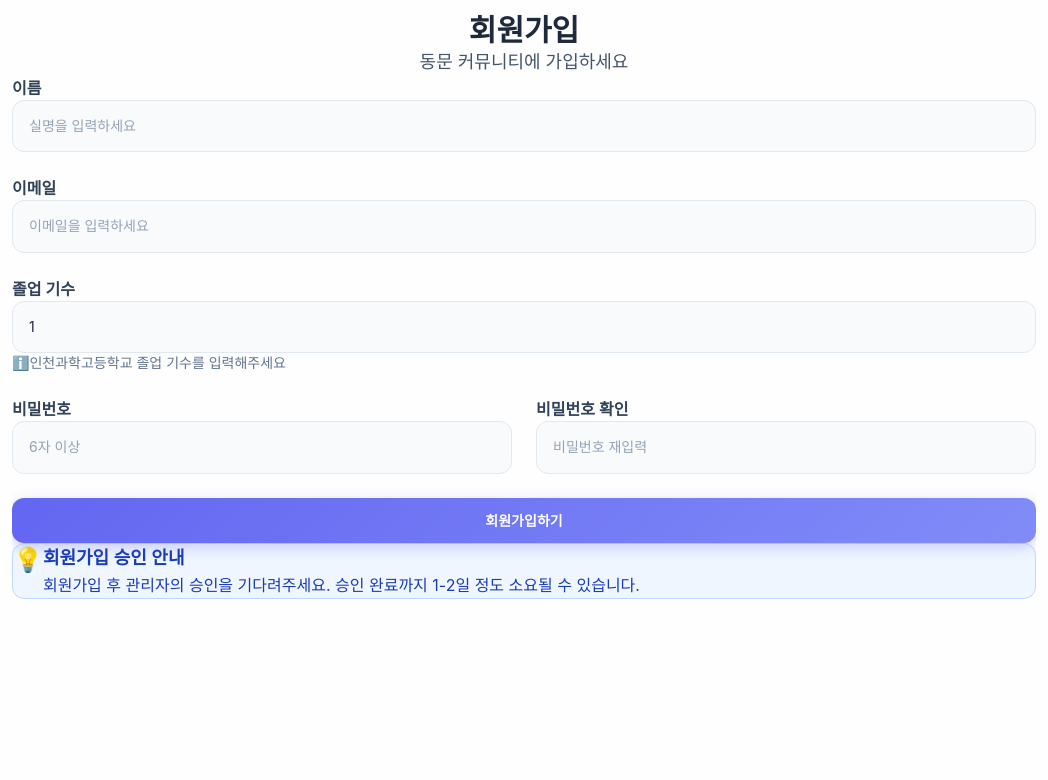
it: RegisterForm › should show success message on successful submission
Type "홍길동" into the field labelled "이름".
click(524, 126); type("홍길동")  # box [12,100,1036,152]
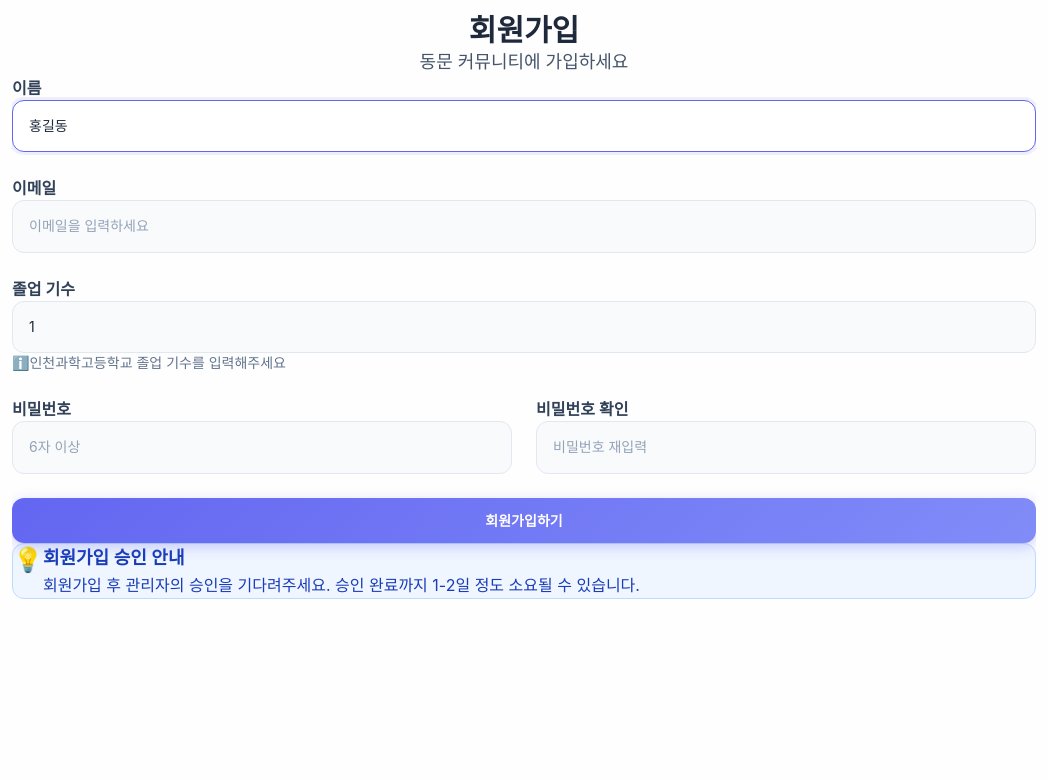
Type "test@example.com" into the field labelled "이메일".
click(524, 227); type("test@example.com")  # box [12,200,1036,253]
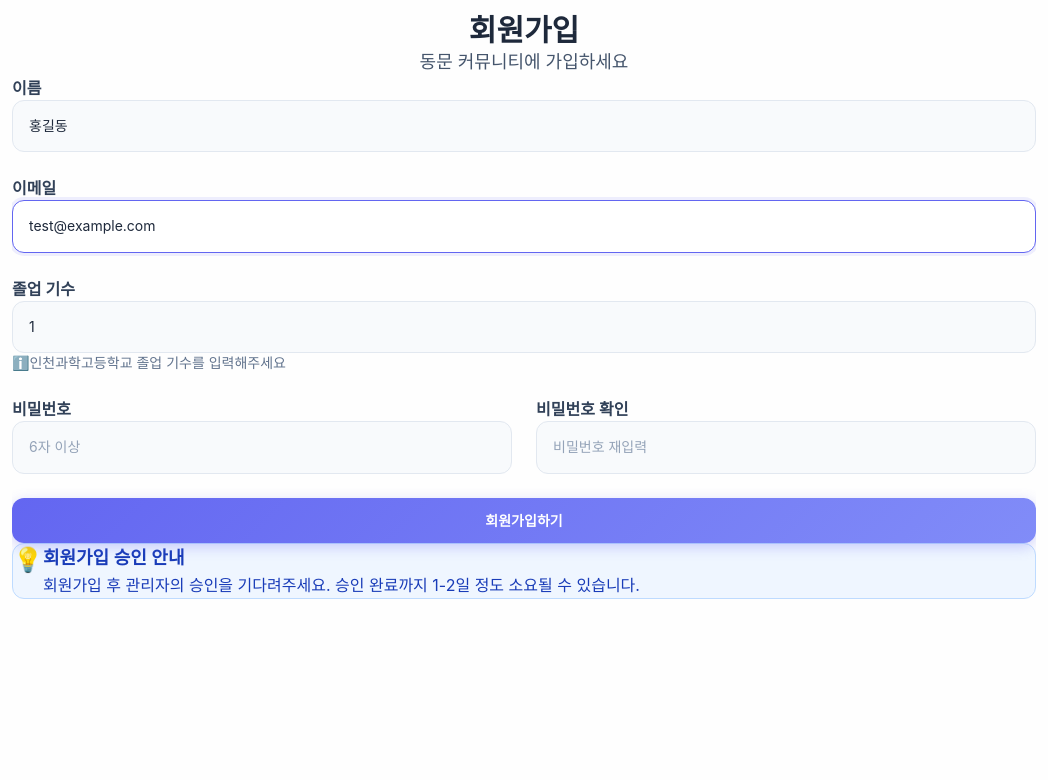
Replace the text in the number field labelled "졸업 기수" with "10" at (524, 327), box [12,301,1036,353]
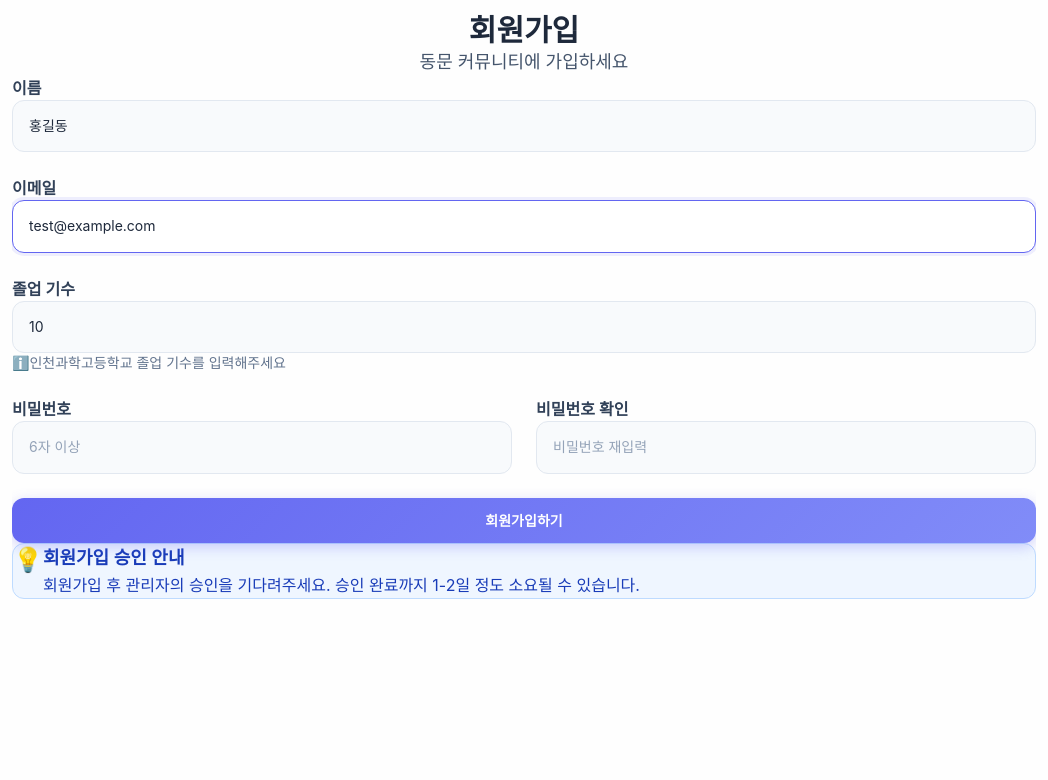
Type "password123" into the password field labelled "비밀번호".
click(262, 447); type("password123")  # box [12,421,512,474]
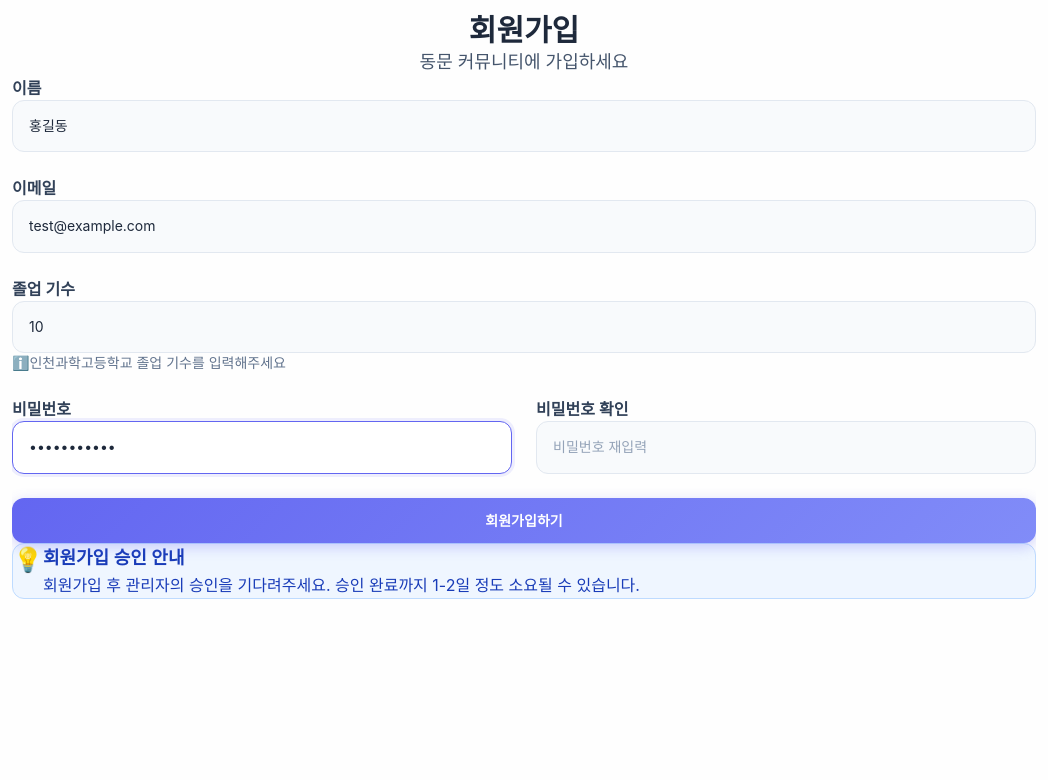
Type "password123" into the password field labelled "비밀번호 확인".
click(786, 447); type("password123")  # box [536,421,1036,474]
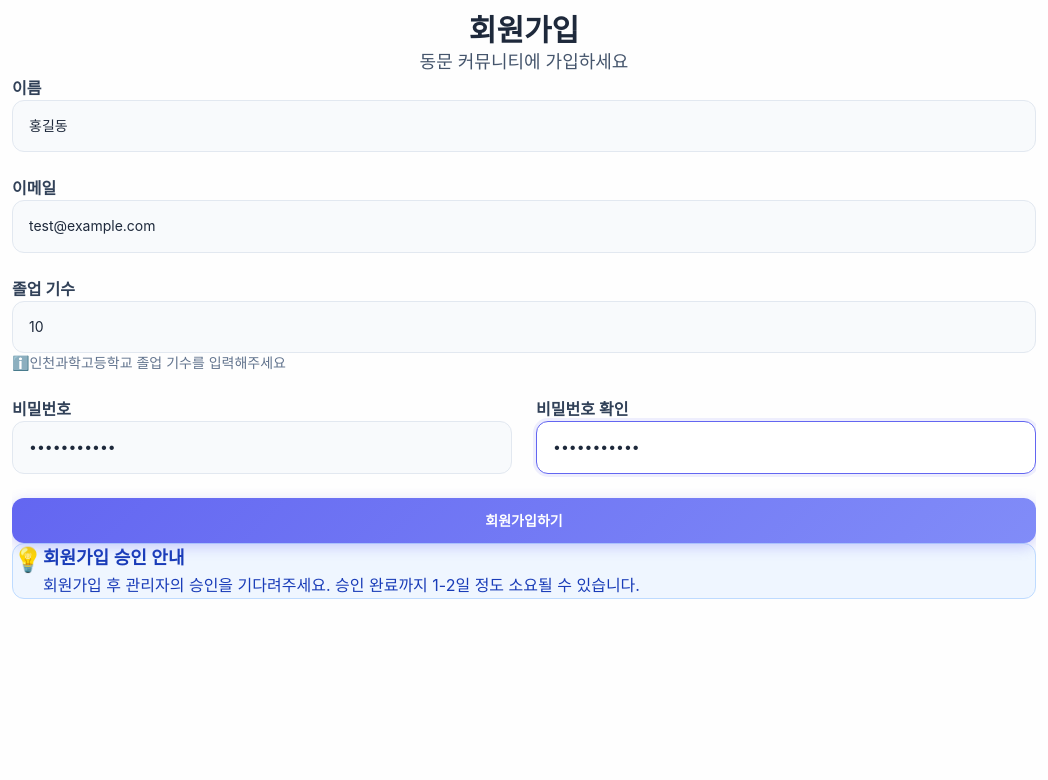
Click the button "회원가입하기".
click(524, 520)  # box [12,498,1036,543]
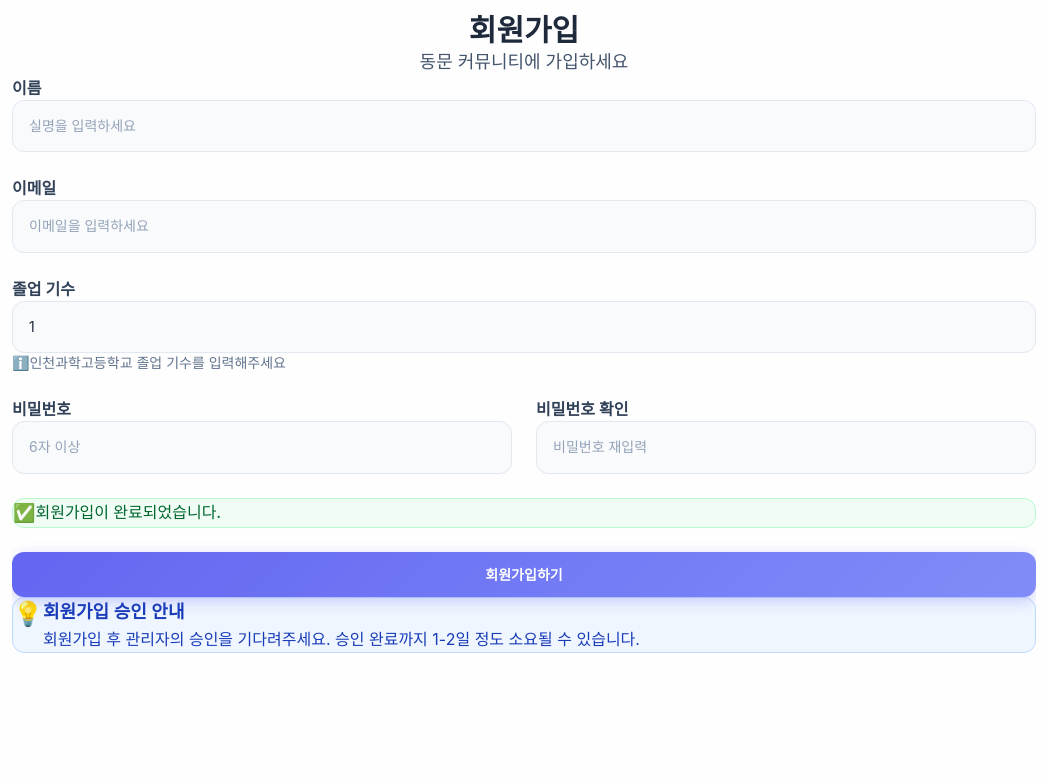
Now the text "회원가입이 완료되었습니다." is shown, box [36,502,221,522]
